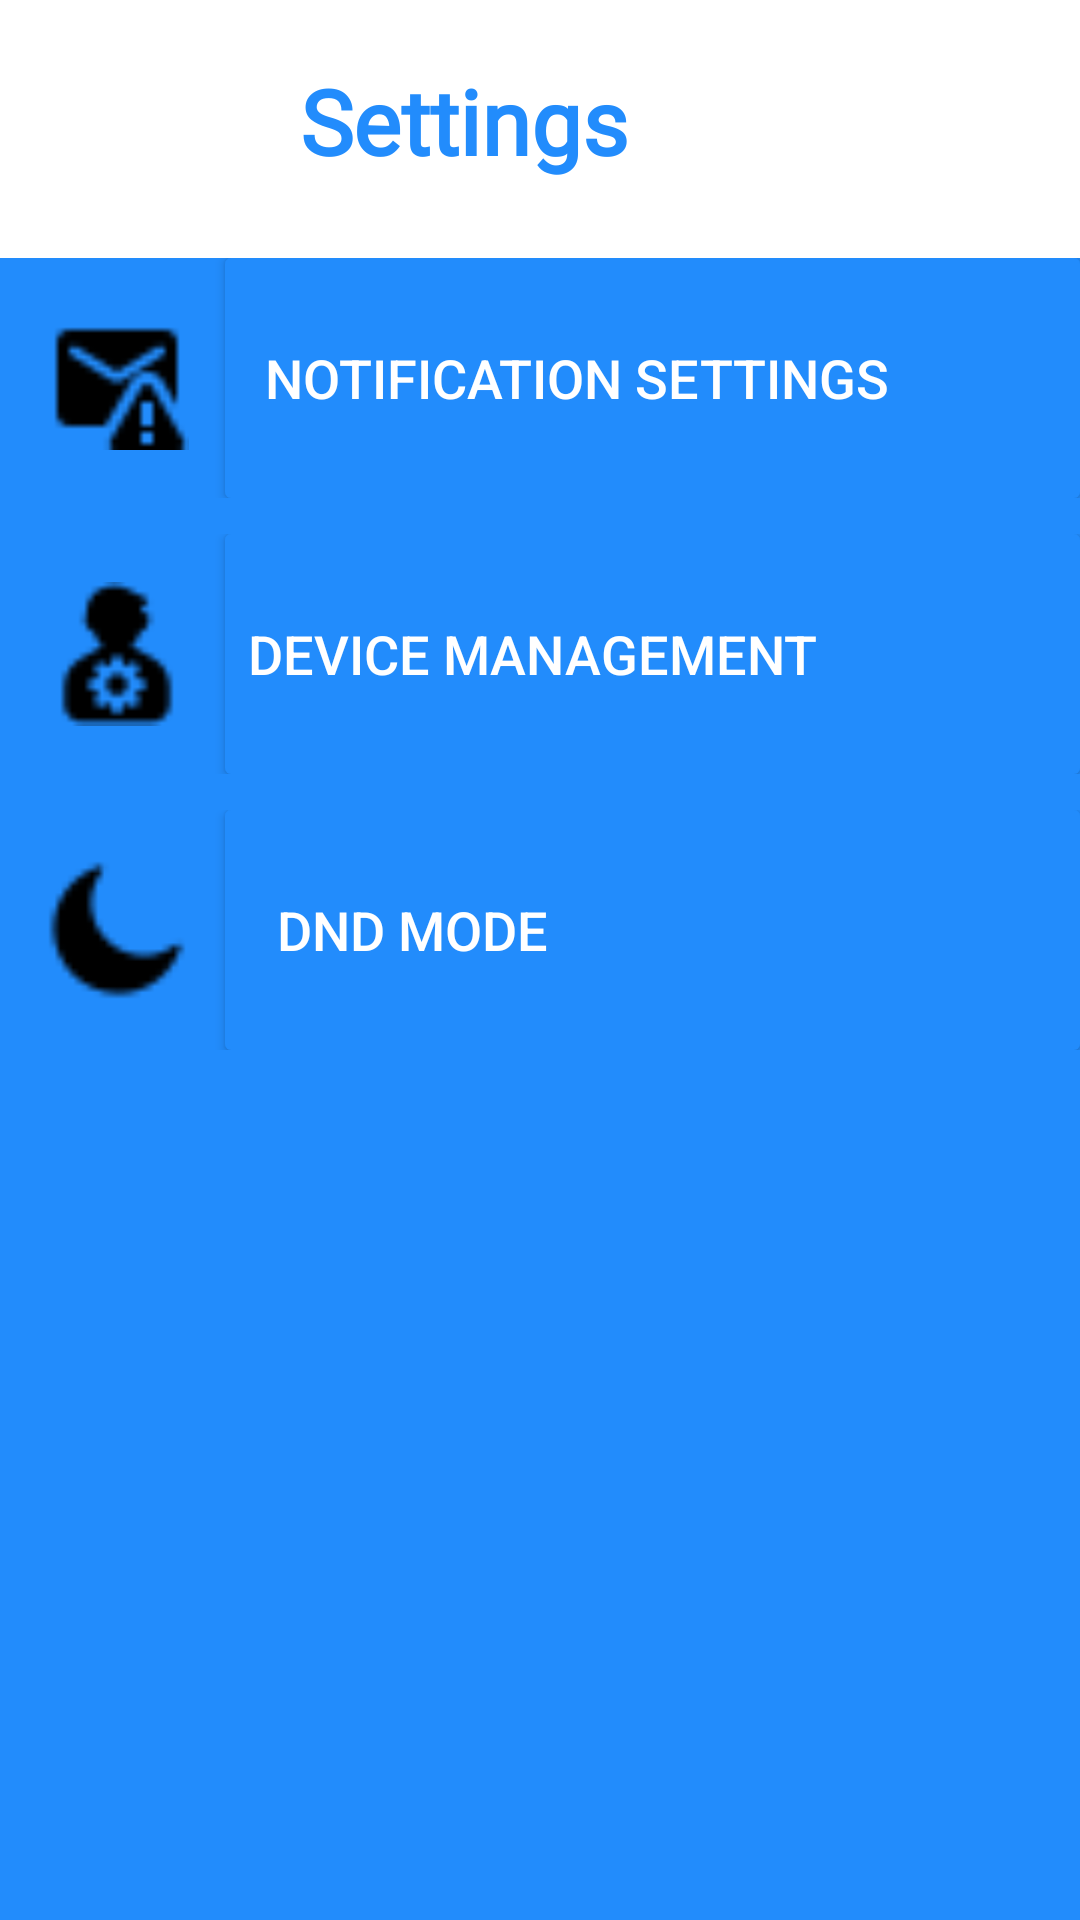

Icon click points for this 1080 × 1920 phone screenshot, format point (x, y):
user: point (117, 654)
